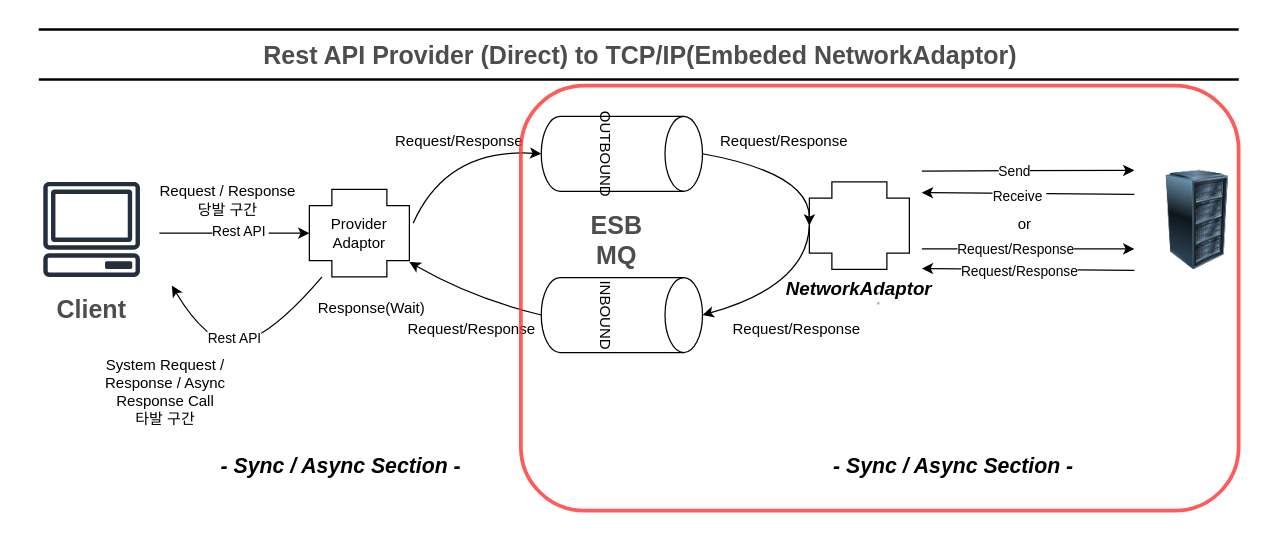
Some shapes in this 1269 by 534 pixel diagram are drawn without their labels. Here are the shapes that lost their labels. From the top down, the box of each, then its label:
(808, 181, 909, 269): Remote Adaptor
(1147, 170, 1247, 270): System
